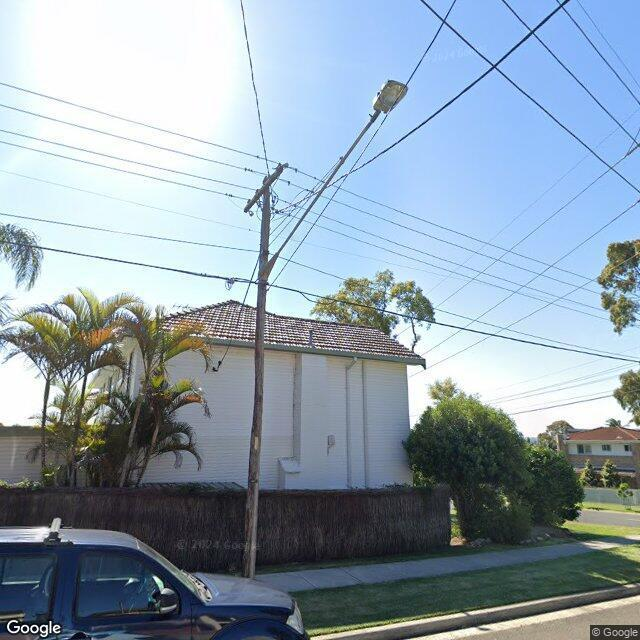crossarm: (242, 163, 290, 214)
streetlight: (260, 79, 408, 284)
timber-pole: (242, 175, 270, 580)
